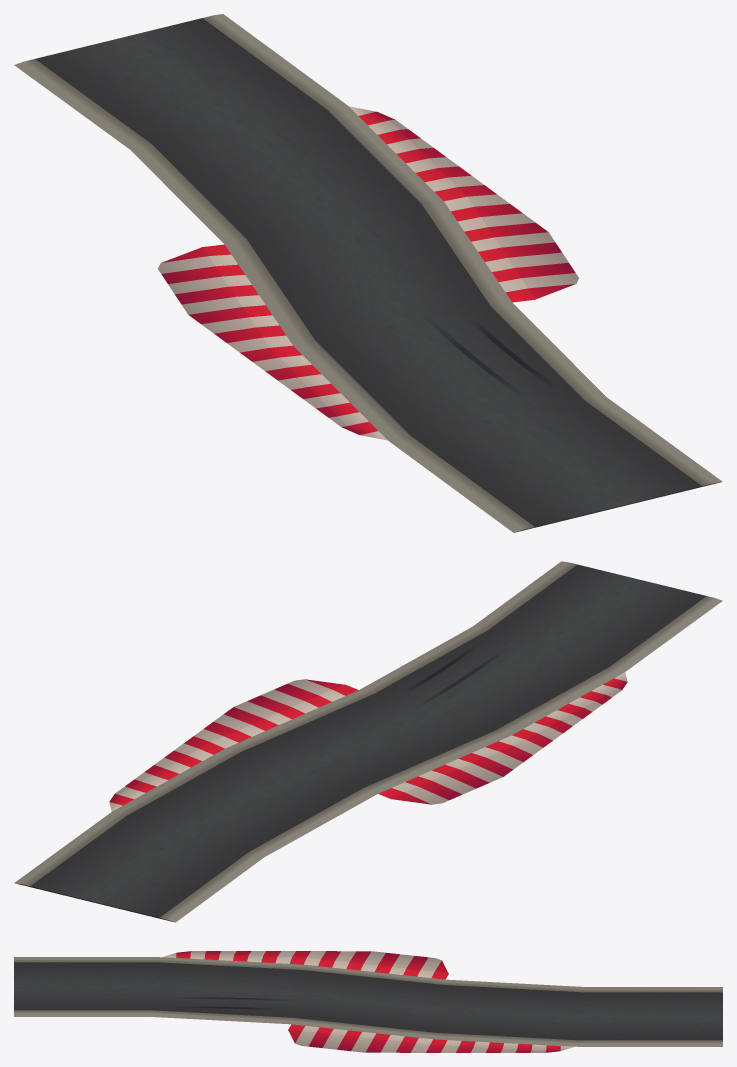
Rendered from Serpentine_1A_Long.glb.
3 views of the same model, one above another, from view 1: azimuth 30°, elevation 25°; view 2: azimuth 150°, elevation 25°; view 3: azimuth 270°, elevation 25° (orthographic). The views are drawn at different scales.
Parts seen in each view (by area): view 1: Serpentine_1A_Long, Serpentine_1A_Long_Skidmarks; view 2: Serpentine_1A_Long, Serpentine_1A_Long_Skidmarks; view 3: Serpentine_1A_Long, Serpentine_1A_Long_Skidmarks.
Part boxes in pixels (x1,y1,x2,y2): Serpentine_1A_Long: [14, 14, 722, 532]; Serpentine_1A_Long_Skidmarks: [420, 313, 560, 405]; Serpentine_1A_Long: [14, 561, 722, 922]; Serpentine_1A_Long_Skidmarks: [398, 642, 515, 709]; Serpentine_1A_Long: [14, 951, 722, 1052]; Serpentine_1A_Long_Skidmarks: [160, 997, 302, 1010].
Bounding box in the file's own units: 33.99 × 0.1152 × 100.
Materials: 1 (1 with a texture image).
